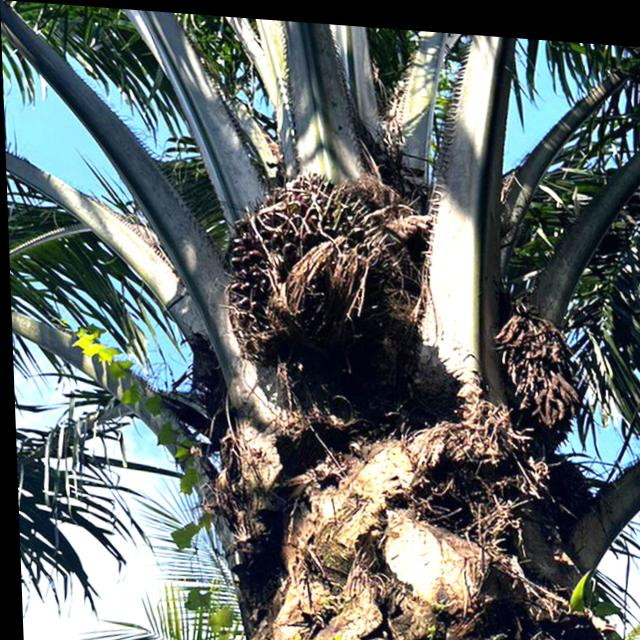unripe: (205, 149, 453, 393)
